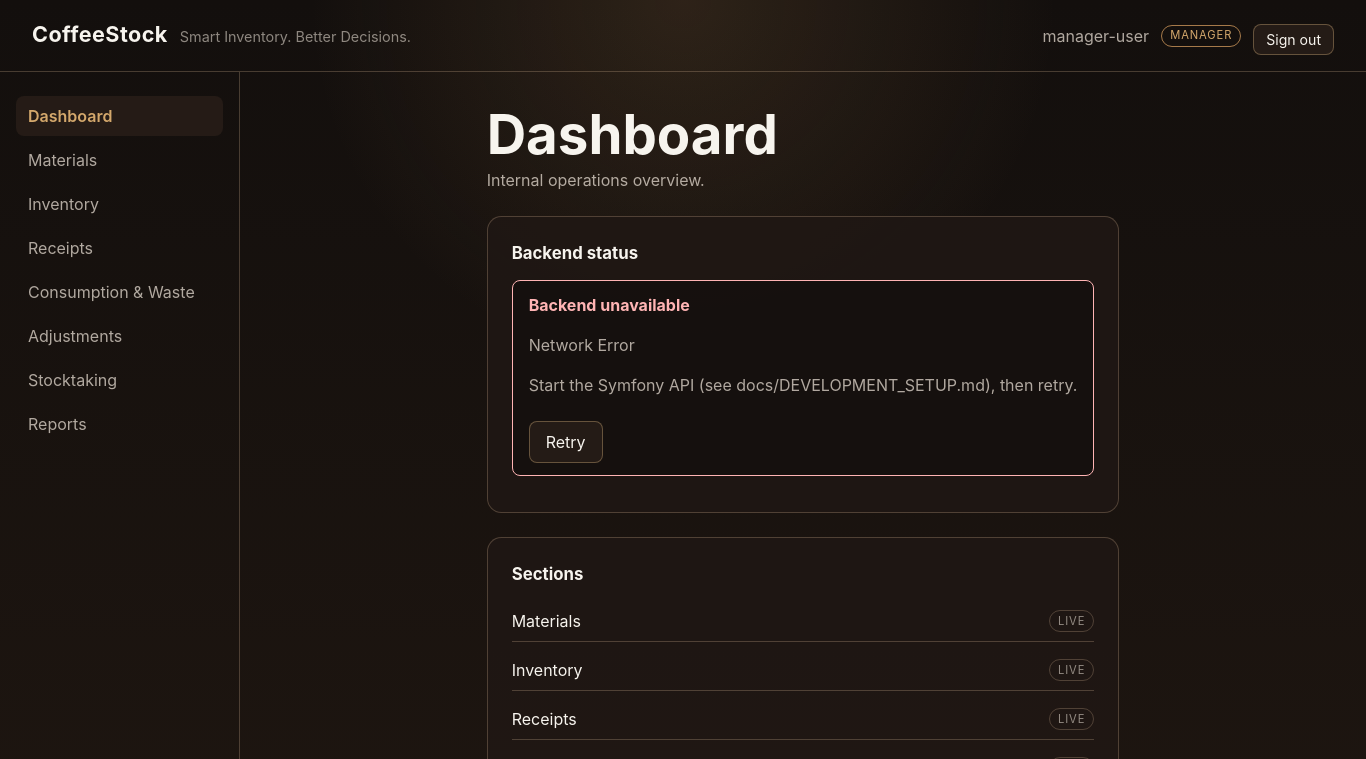
Scenario: App shell › offers a retry action in the error state
The image size is (1366, 759).
Check: the text "Backend unavailable" is shown, box [529, 295, 690, 315]
Click the button "Retry" at (566, 442), box [529, 421, 602, 463]
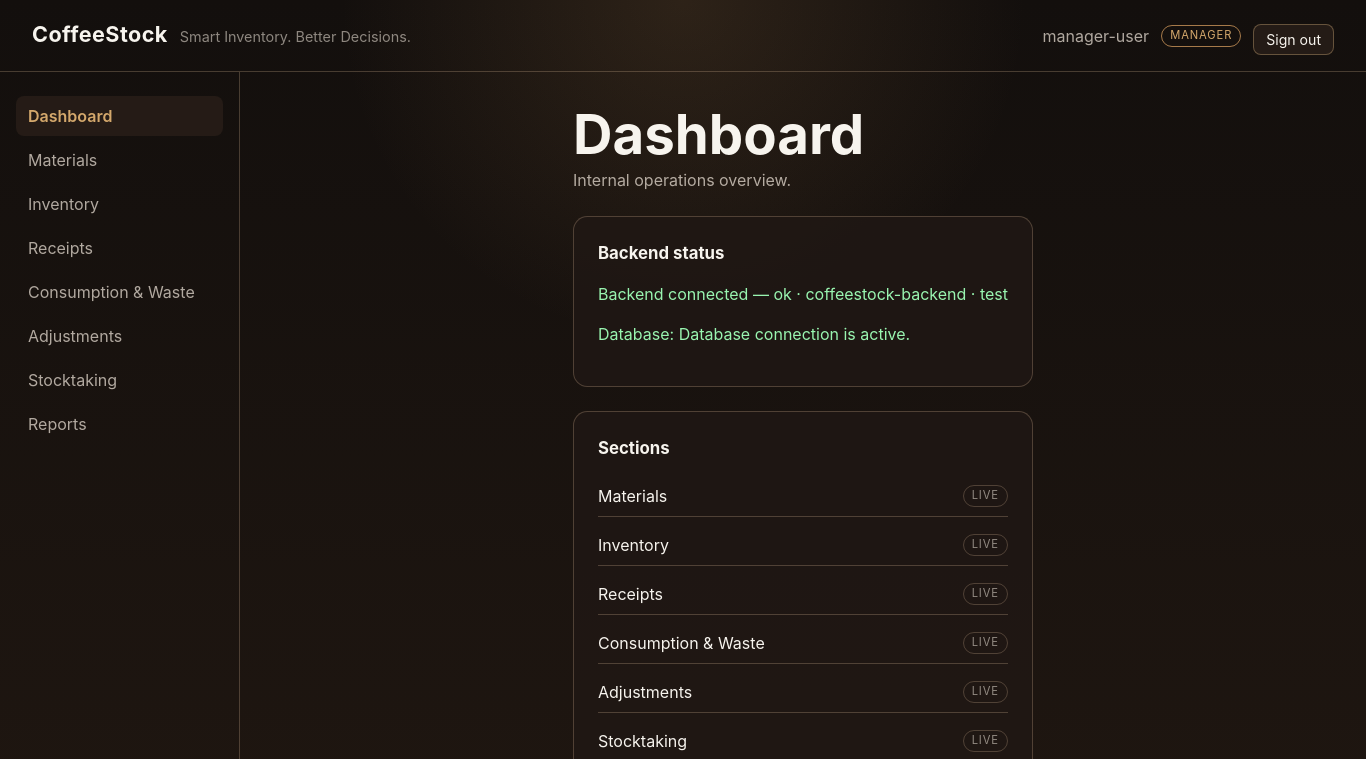
Check: the text "Backend connected — ok · coffeestock-backend · test" is shown, box [598, 282, 1008, 306]
